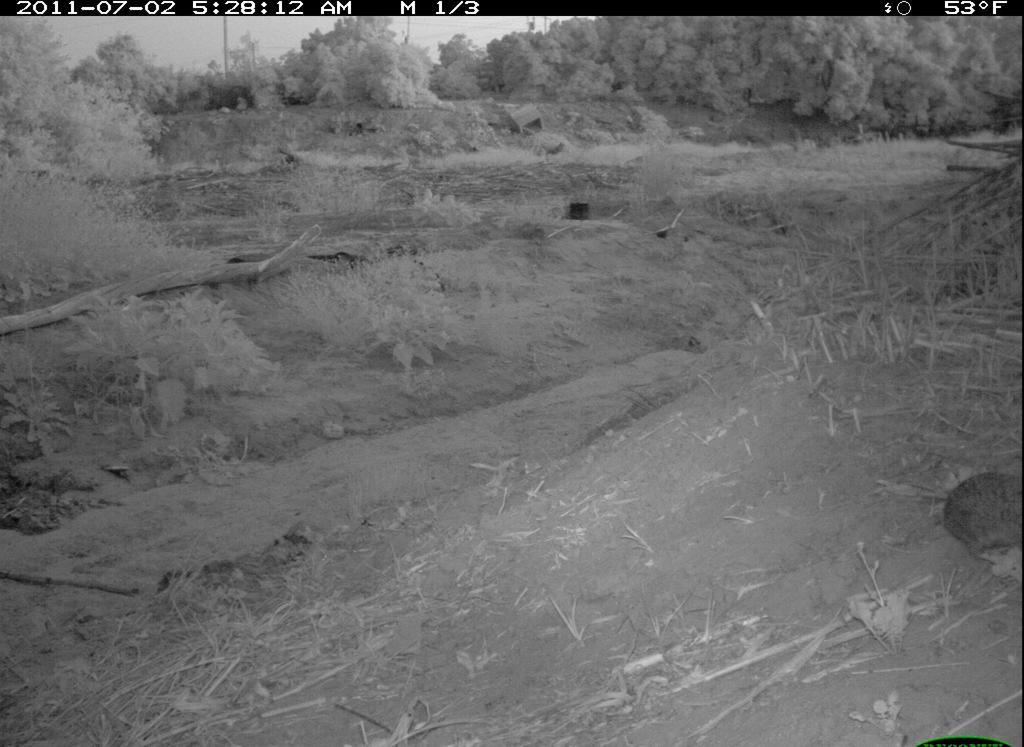rabbit: (935, 461, 1023, 587)
